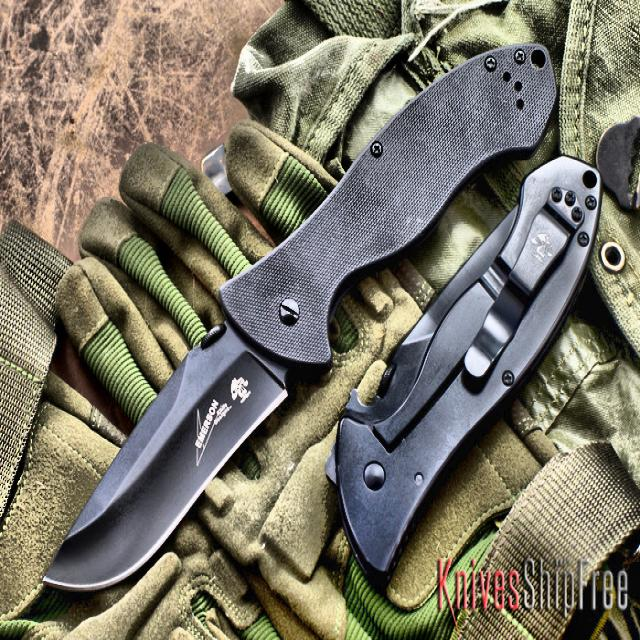knife: (43, 44, 557, 589), (328, 160, 602, 588)
